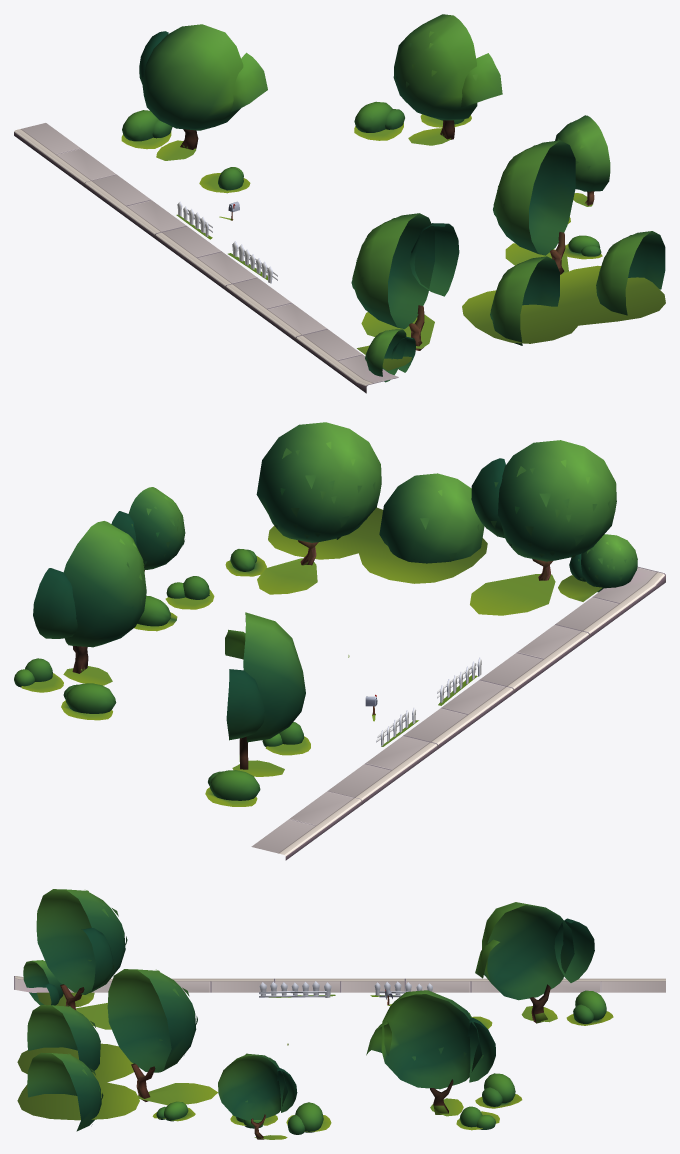
The model's file is Yard01_Static.fbx.
3 renders of one model, top to bottom at view 1: azimuth 30°, elevation 25°; view 2: azimuth 150°, elevation 25°; view 3: azimuth 270°, elevation 25°, orthographic. The views are drawn at different scales.
Visible parts, largest first — view 1: Static_Bushes5, Static_Sidewalk, Static_Everything; view 2: Static_Bushes5, Static_Sidewalk, Static_Everything; view 3: Static_Bushes5, Static_Sidewalk, Static_Everything.
Boxes of the visible parts, bbox=[...] form: Static_Bushes5: bbox=[121, 14, 665, 382]; Static_Sidewalk: bbox=[14, 123, 398, 393]; Static_Everything: bbox=[176, 201, 277, 283]; Static_Bushes5: bbox=[14, 422, 637, 806]; Static_Sidewalk: bbox=[251, 567, 665, 860]; Static_Everything: bbox=[348, 655, 481, 746]; Static_Bushes5: bbox=[17, 889, 613, 1139]; Static_Sidewalk: bbox=[14, 976, 665, 992]; Static_Everything: bbox=[259, 981, 432, 1045].
Bounding box in the file's own units: 852 × 334 × 1424.
